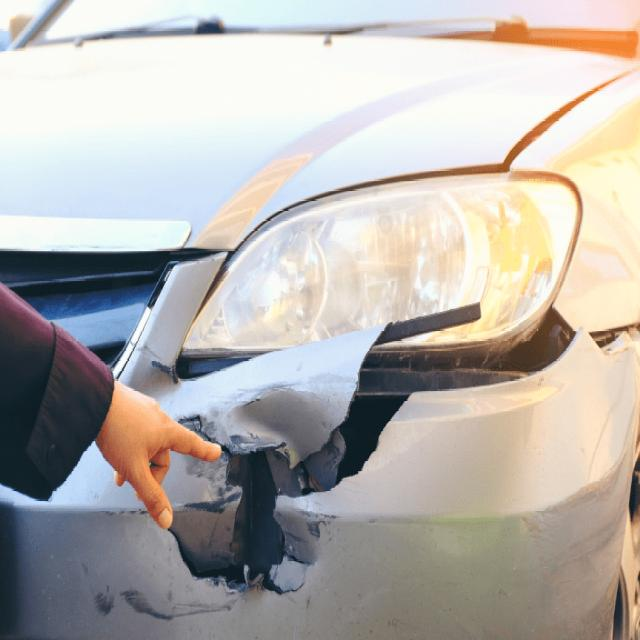misalignment: (358, 303, 577, 394), (176, 353, 259, 378), (589, 323, 640, 348)
scratch: (522, 400, 633, 578), (194, 373, 356, 458), (118, 587, 240, 622), (182, 486, 241, 514), (301, 506, 341, 543), (186, 455, 228, 482), (94, 583, 118, 616), (151, 358, 178, 385), (211, 577, 249, 594), (90, 506, 148, 516), (285, 531, 309, 544)
tear: (164, 303, 479, 598)
